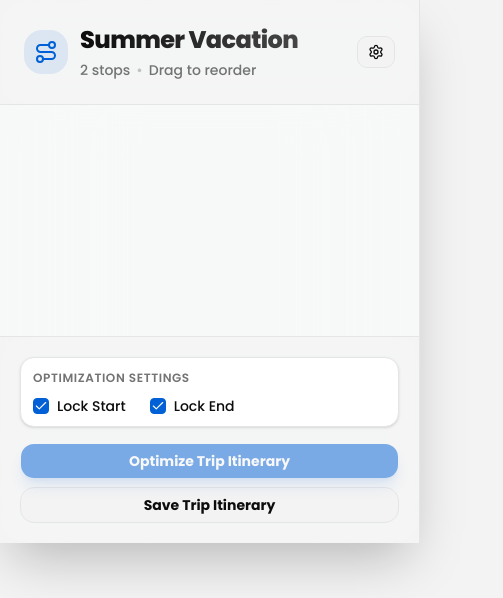
Test: TripPanel › can open edit trip dialog
This screenshot has width=503, height=598.
Click the button named "settings".
click(376, 52)  # box [357, 36, 395, 68]
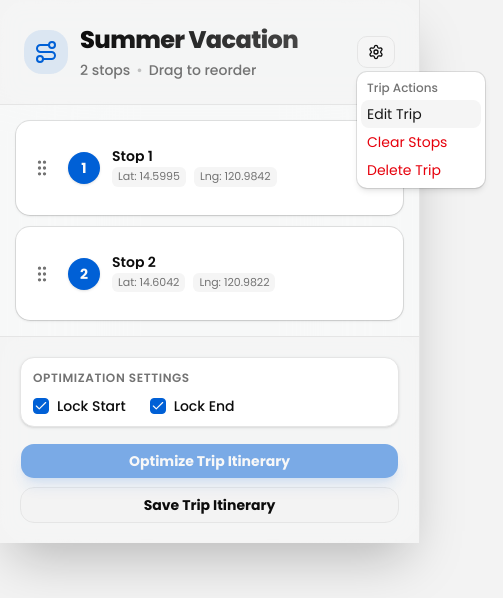
Expected: the text "Trip Actions" is shown, [367, 79, 438, 96]
Expected: the menu item "Edit Trip" is shown, [361, 100, 481, 128]
